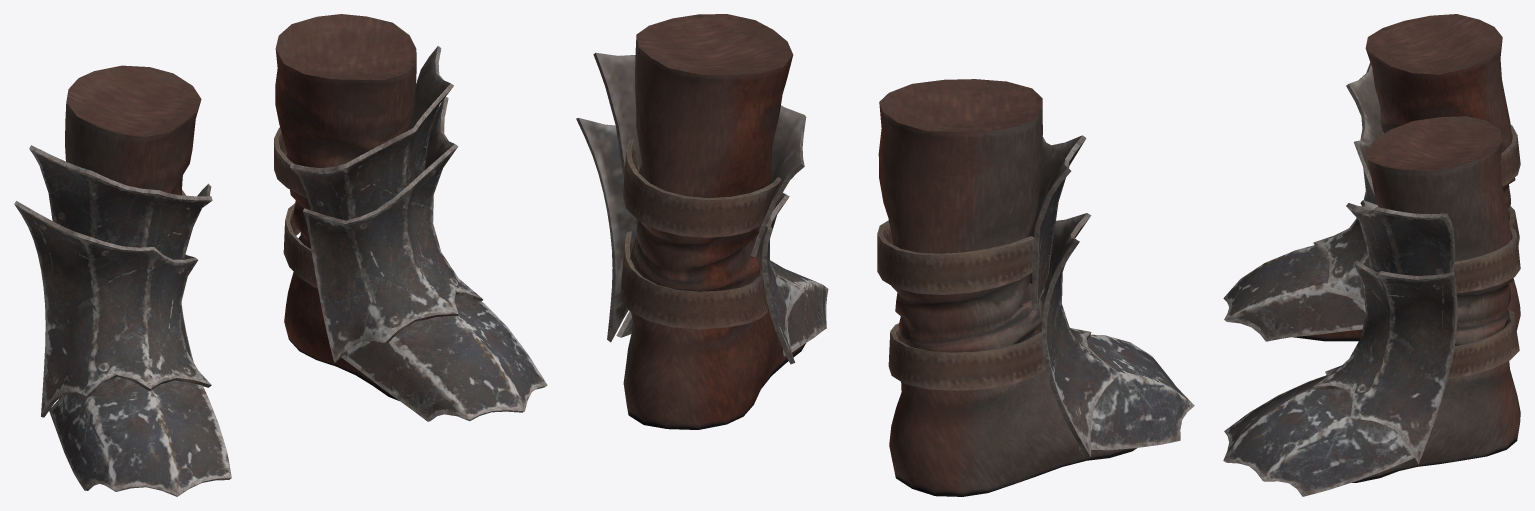
File: sk_dg_uruk_boots_heavy_d.fbx
3 renders of one model, left to right at view 1: azimuth 30°, elevation 25°; view 2: azimuth 150°, elevation 25°; view 3: azimuth 270°, elevation 25°, orthographic. The views are drawn at different scales.
Visible parts, largest first — view 1: sk_dg_uruk_boots_heavy_d.0, sk_dg_uruk_boots_heavy_d.1; view 2: sk_dg_uruk_boots_heavy_d.0, sk_dg_uruk_boots_heavy_d.1; view 3: sk_dg_uruk_boots_heavy_d.0, sk_dg_uruk_boots_heavy_d.1.
Part boxes in pixels (x1,y1,x2,y2): sk_dg_uruk_boots_heavy_d.0: (14, 14, 547, 496); sk_dg_uruk_boots_heavy_d.1: (182, 127, 317, 288); sk_dg_uruk_boots_heavy_d.0: (576, 14, 1194, 496); sk_dg_uruk_boots_heavy_d.1: (620, 139, 1045, 390); sk_dg_uruk_boots_heavy_d.0: (1223, 14, 1520, 496); sk_dg_uruk_boots_heavy_d.1: (1448, 125, 1520, 378).
Bounding box in the file's own units: 0.5936 × 0.3539 × 0.3995.
Materials: 2 (2 with a texture image).
